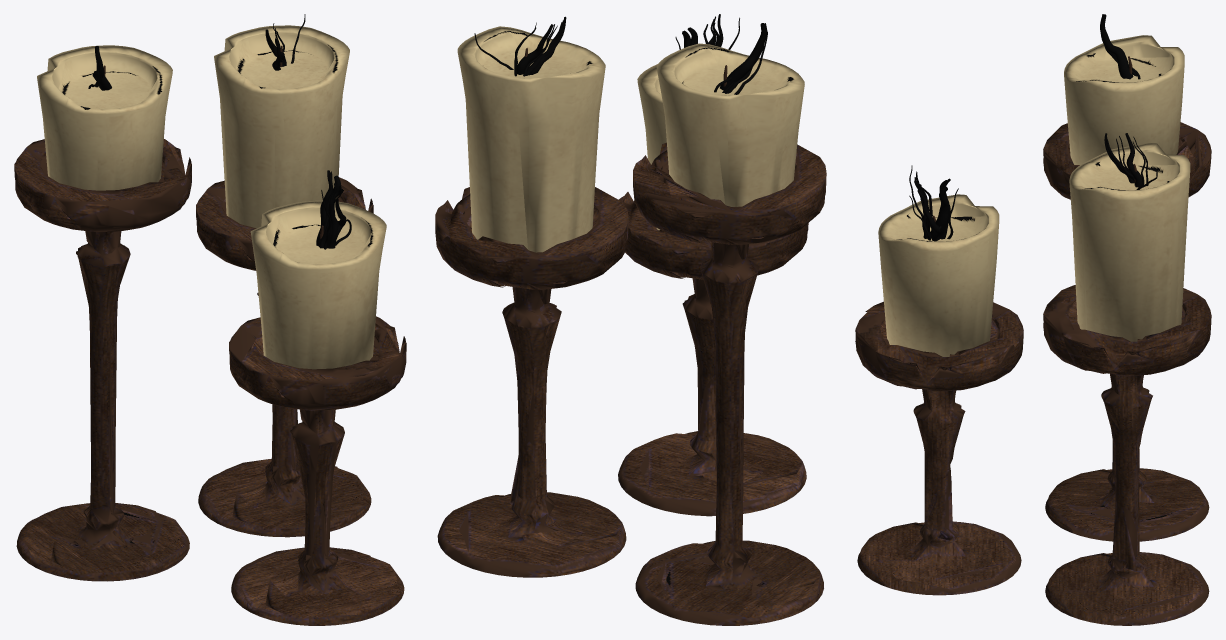
The model's file is candle 5.obj.
3 views of the same model, side by side, from view 1: azimuth 30°, elevation 25°; view 2: azimuth 150°, elevation 25°; view 3: azimuth 270°, elevation 25° (orthographic). The views are drawn at different scales.
Parts seen in each view (by area): view 1: directionalLight2; view 2: directionalLight2; view 3: directionalLight2.
Boxes of the visible parts, bbox=[...] form: directionalLight2: bbox=[14, 14, 406, 625]; directionalLight2: bbox=[435, 14, 826, 625]; directionalLight2: bbox=[855, 14, 1211, 625].
Size of the model in its own units: 4.11 by 5.98 by 3.99.
Materials: 6 (3 with a texture image).
